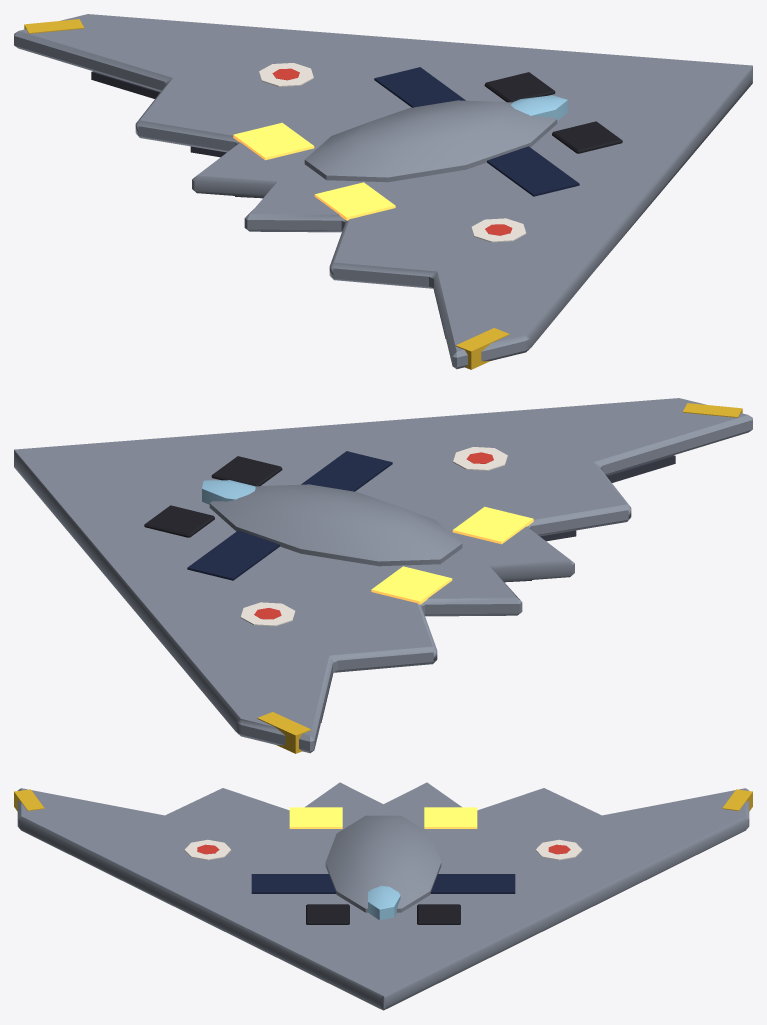
File: bomber.glb
3 views of the same model, one above another, from view 1: azimuth 30°, elevation 25°; view 2: azimuth 150°, elevation 25°; view 3: azimuth 270°, elevation 25° (orthographic). The views are drawn at different scales.
Parts seen in each view (by area): view 1: bomber; view 2: bomber; view 3: bomber.
Part boxes in pixels (x1,y1,x2,y2): bomber: (14, 14, 752, 369); bomber: (14, 398, 752, 753); bomber: (14, 782, 752, 1010).
Bounding box in the file's own units: 34.8 × 3.84 × 50.49.
1 material, 1 textured.
